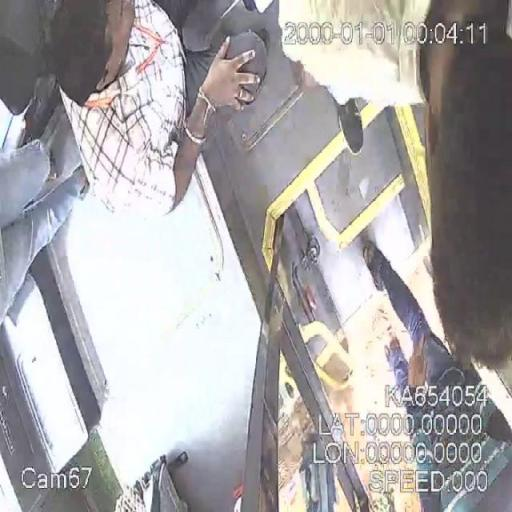persona: (280, 0, 510, 373), (1, 0, 264, 227), (361, 240, 511, 510)
